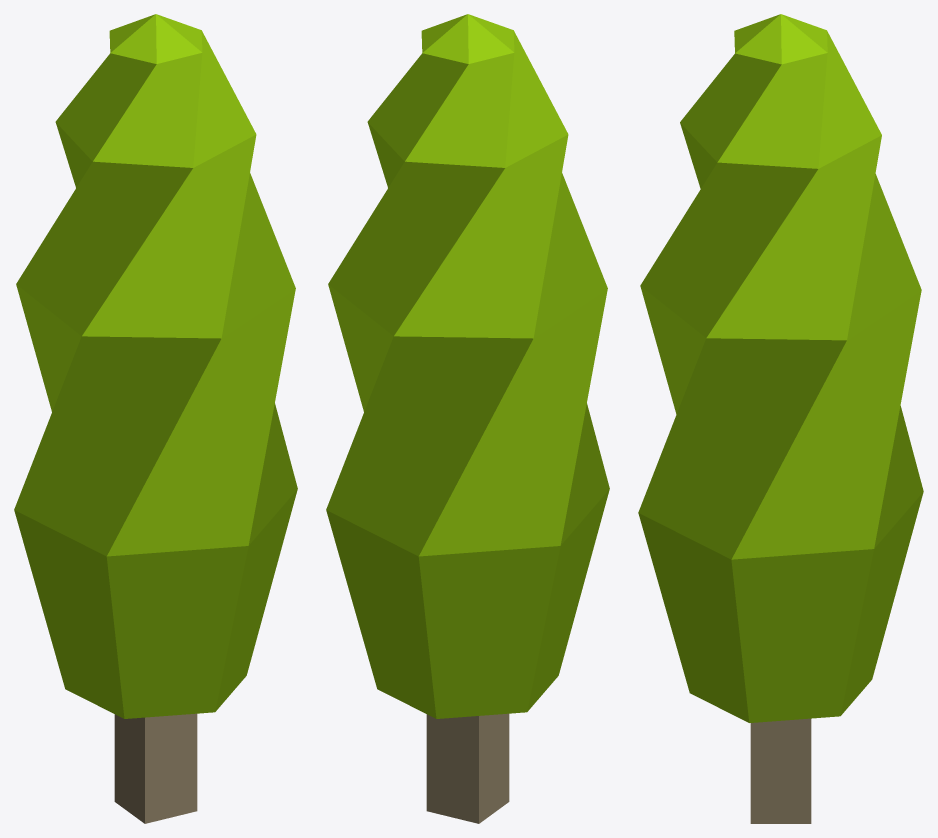
Rendered from tree_cylinder_4.fbx.
3 views of the same model, side by side, from view 1: azimuth 30°, elevation 25°; view 2: azimuth 150°, elevation 25°; view 3: azimuth 270°, elevation 25° (orthographic).
Parts seen in each view (by area): view 1: tree_cylinder_4; view 2: tree_cylinder_4; view 3: tree_cylinder_4.
Part boxes in pixels (x1,y1,x2,y2): tree_cylinder_4: (14, 14, 297, 823); tree_cylinder_4: (326, 14, 609, 823); tree_cylinder_4: (638, 14, 923, 823).
Bounding box in the file's own units: 55.14 × 178 × 57.79.
